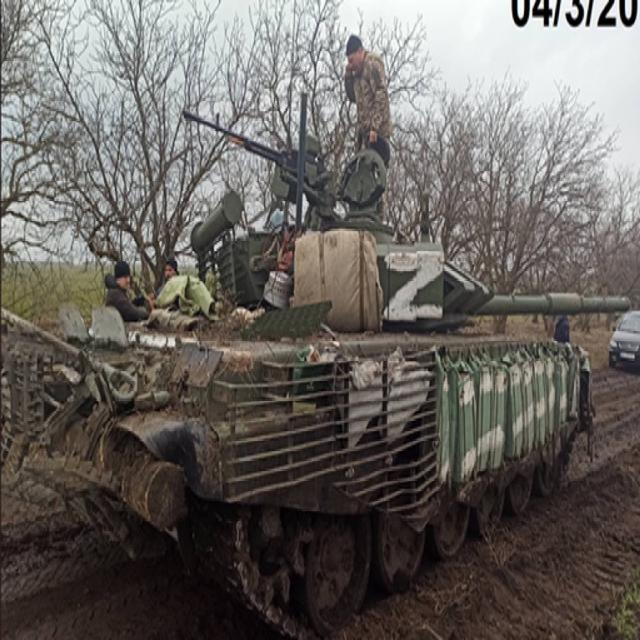CAR: (609, 300, 639, 371)
TANK: (37, 187, 628, 633)
